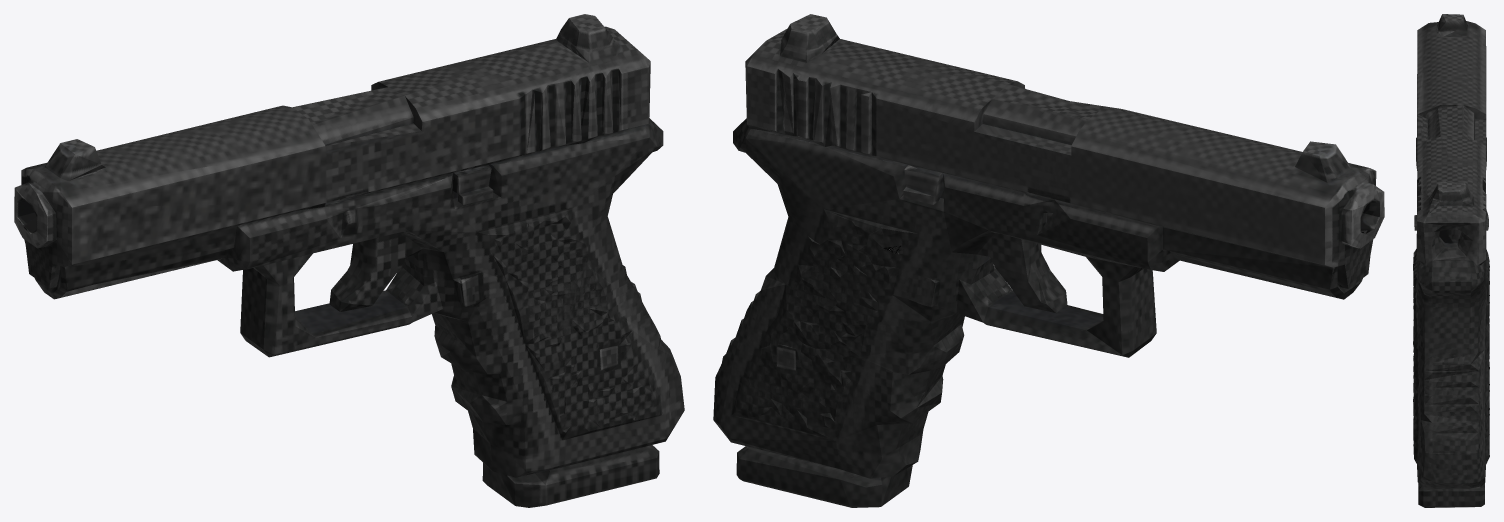
The model's file is Meshy_AI_standard_pistol_lowpo_1018142942_texture.fbx.
3 renders of one model, left to right at view 1: azimuth 30°, elevation 25°; view 2: azimuth 150°, elevation 25°; view 3: azimuth 270°, elevation 25°, orthographic. The views are drawn at different scales.
Visible parts, largest first — view 1: output_unwrapped; view 2: output_unwrapped; view 3: output_unwrapped.
Part boxes in pixels (x1,y1,x2,y2): output_unwrapped: [14, 14, 684, 507]; output_unwrapped: [713, 14, 1384, 507]; output_unwrapped: [1413, 14, 1489, 507].
Bounding box in the file's own units: 190 × 128 × 29.02.
Materials: 1 (1 with a texture image).
